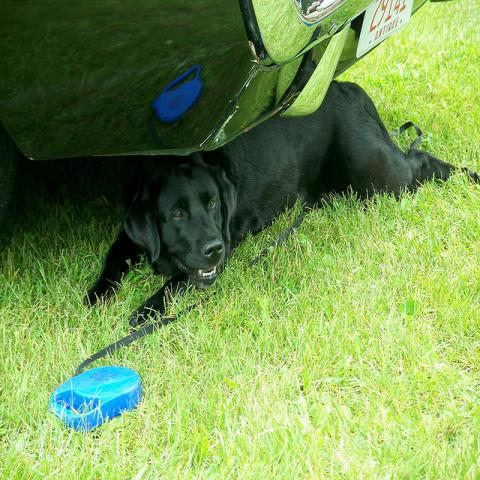car: (1, 1, 423, 230)
